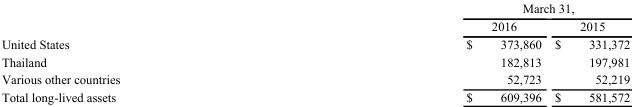table: (0, 1, 629, 103)
table column: (0, 1, 292, 103), (292, 1, 547, 103), (547, 1, 629, 103)
table column header: (0, 1, 629, 34)
table row: (0, 34, 629, 52), (0, 52, 629, 70), (0, 17, 629, 34), (0, 70, 629, 87), (0, 1, 629, 17), (0, 87, 629, 103)
table spanning cell: (292, 1, 629, 17)
